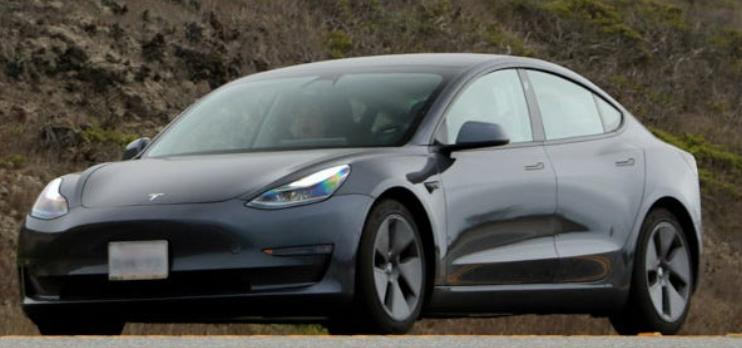car: (16, 45, 716, 341)
